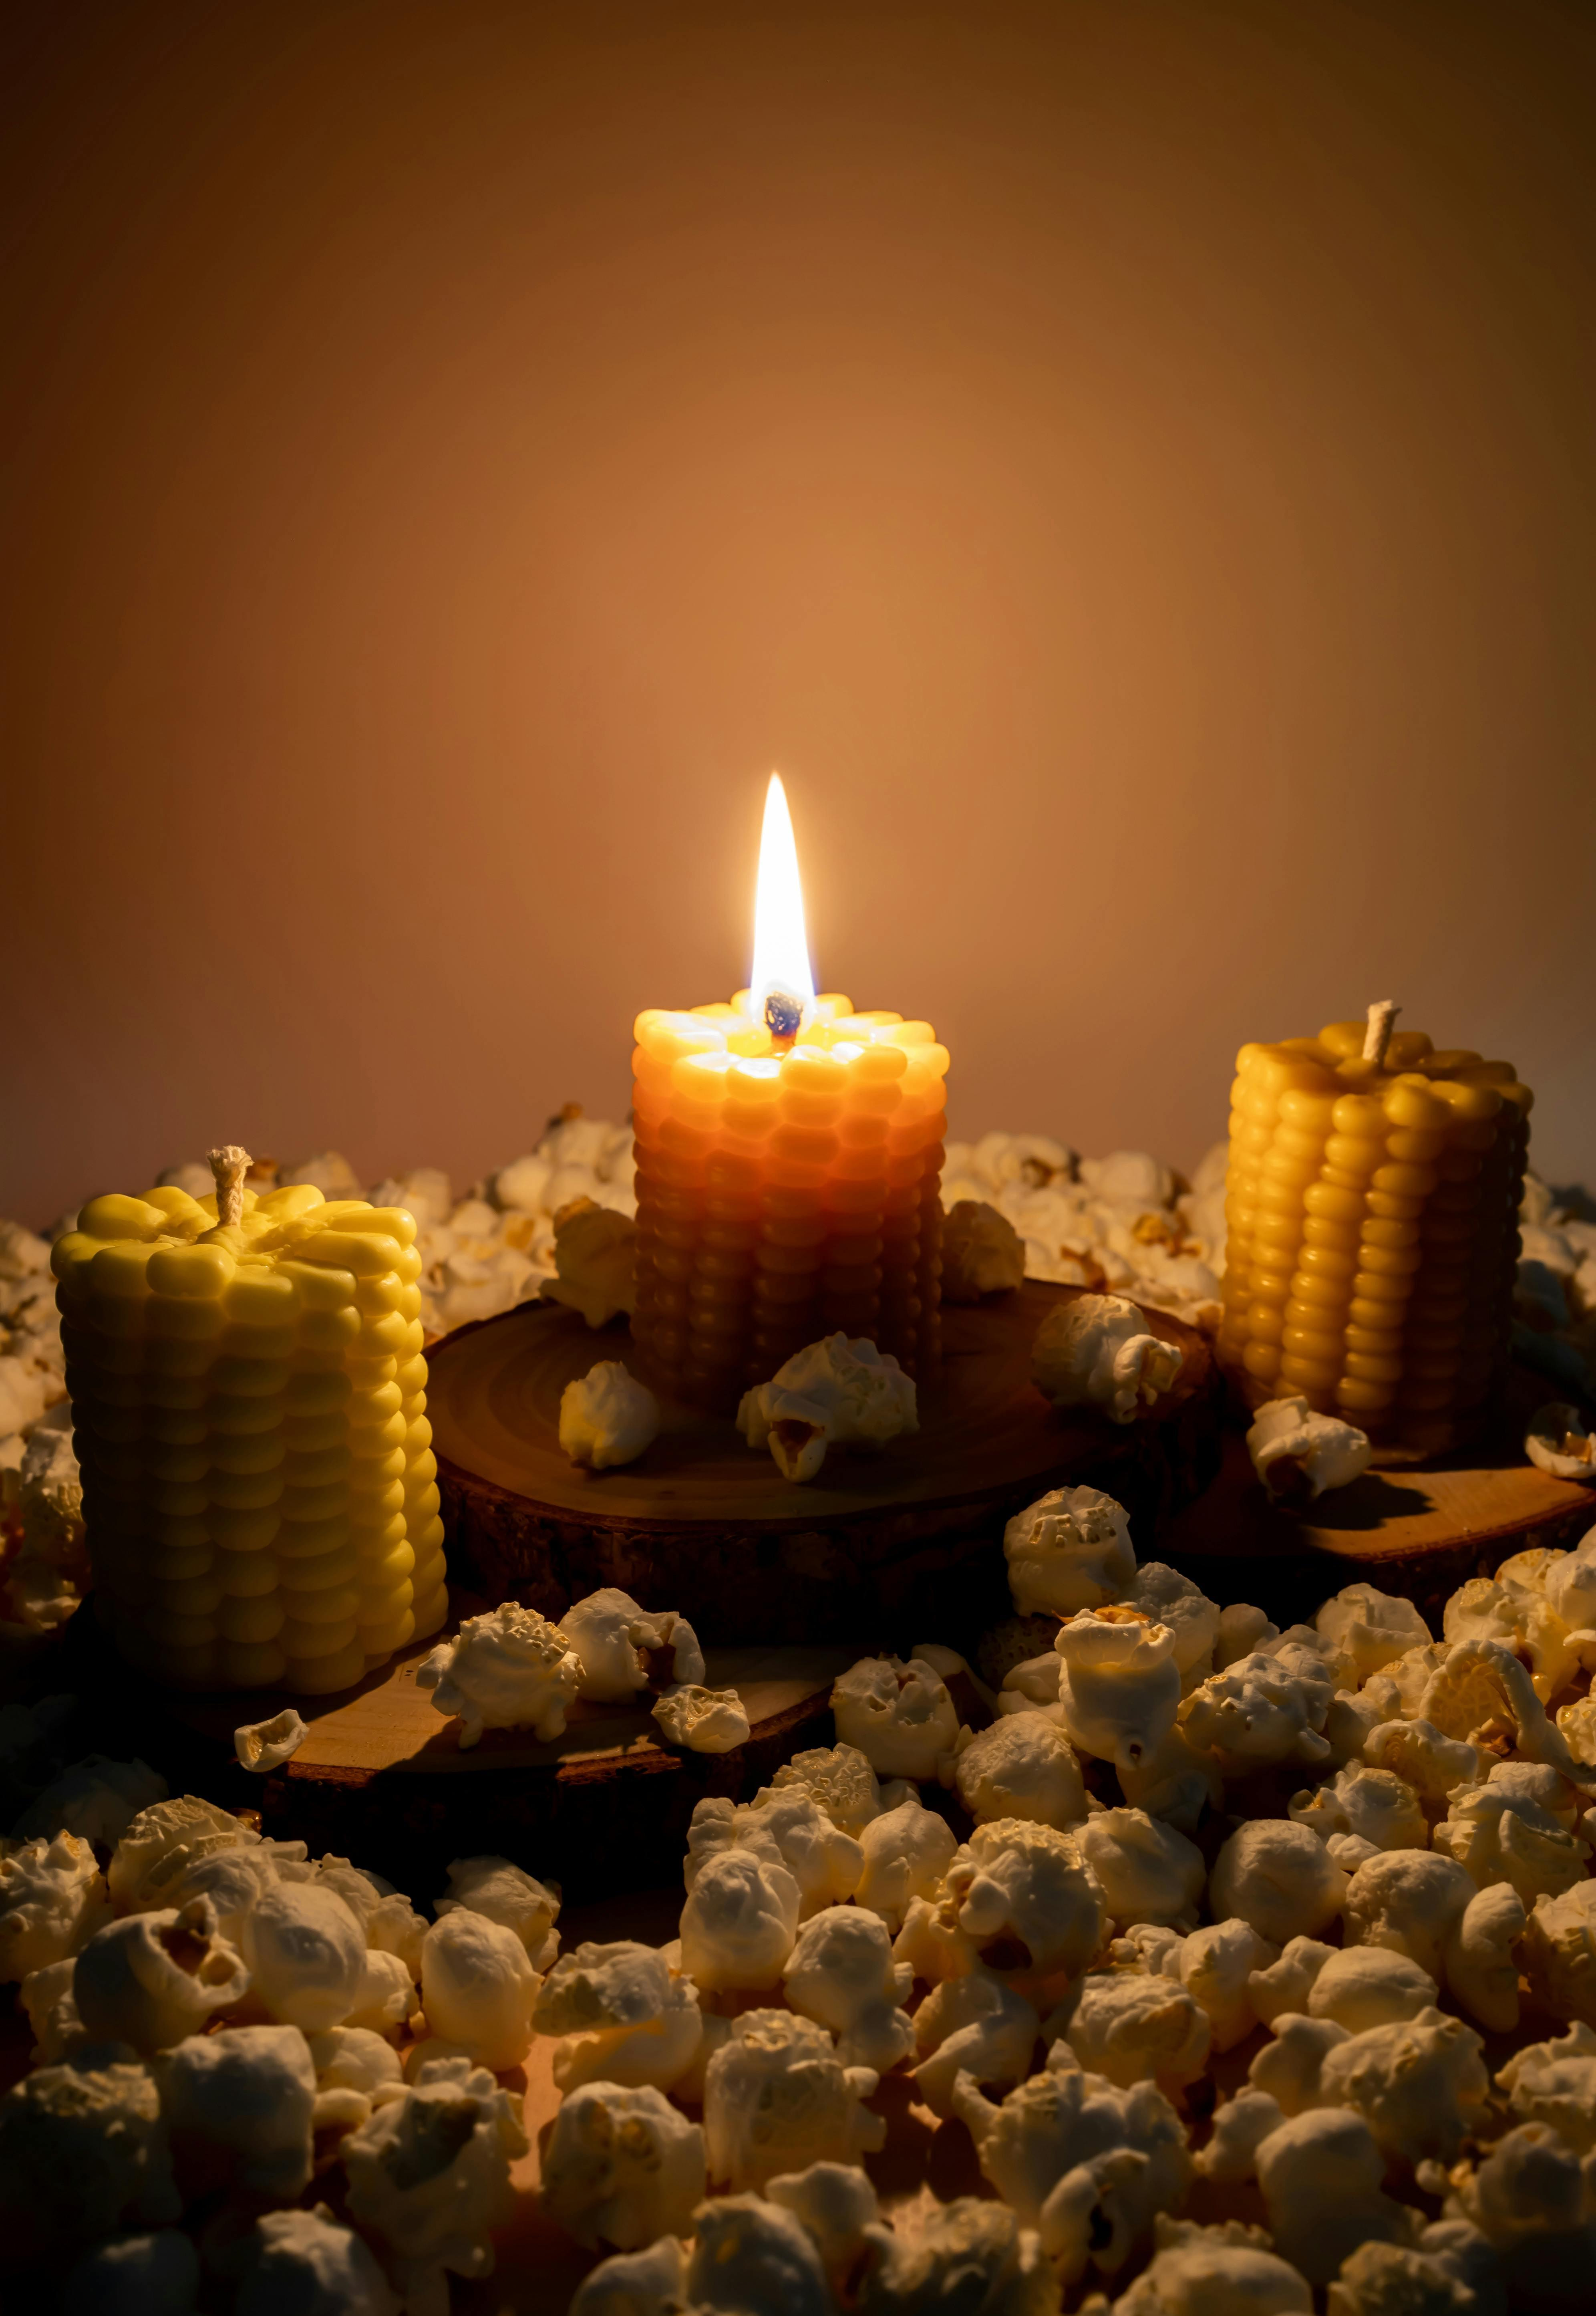Fire: (718, 753, 853, 1022)
